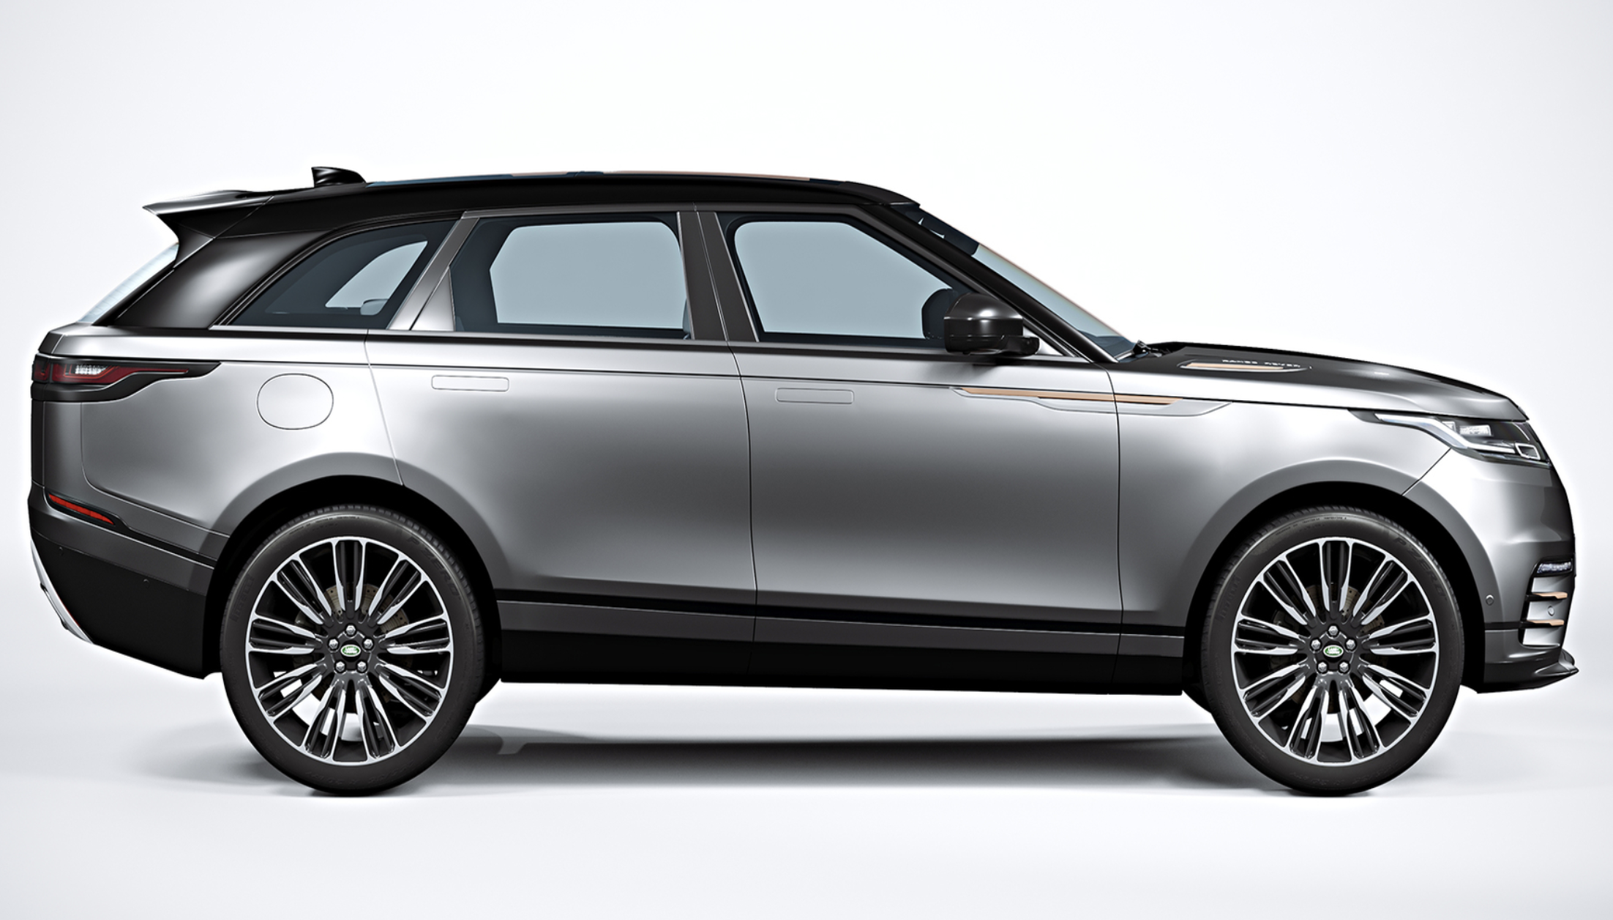hatch: (251, 368, 341, 435)
